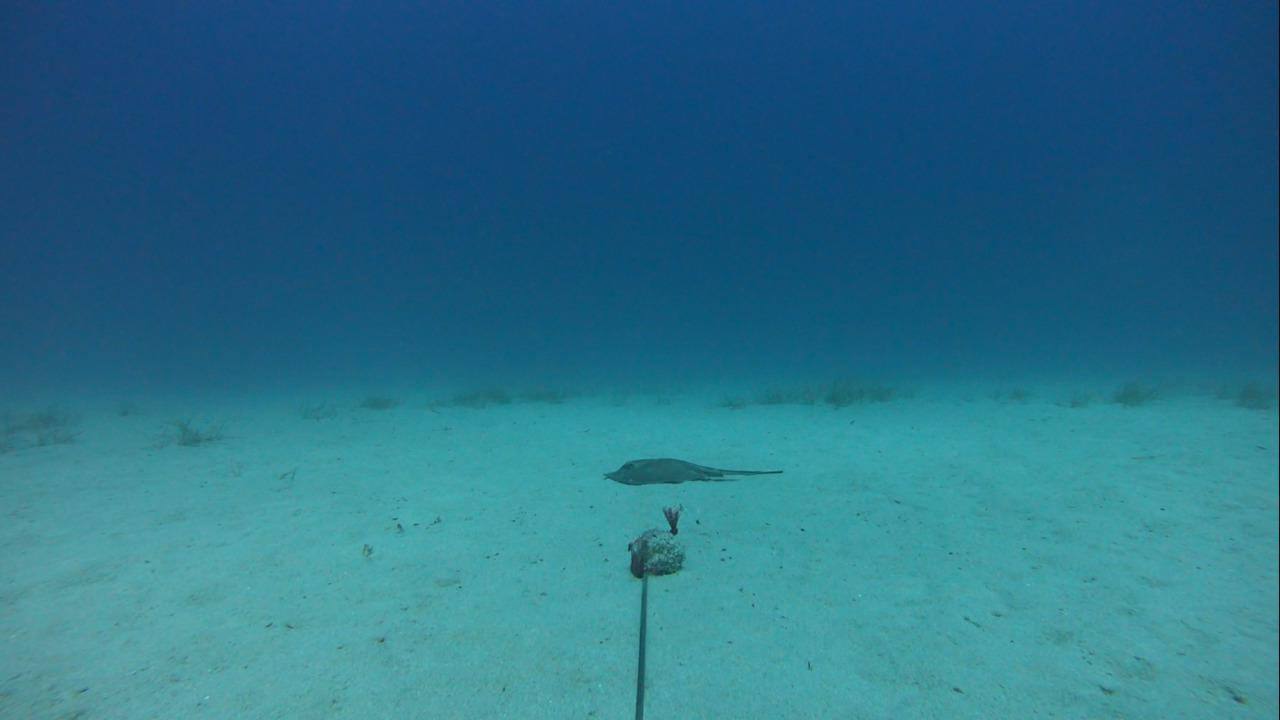myliobatis: (596, 448, 784, 494)
